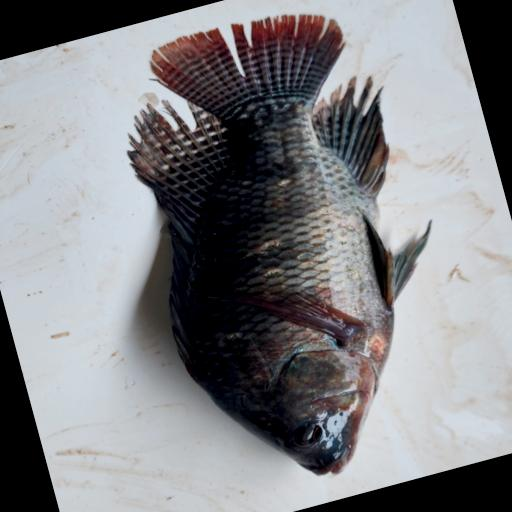Tilapia: (97, 0, 489, 506)
